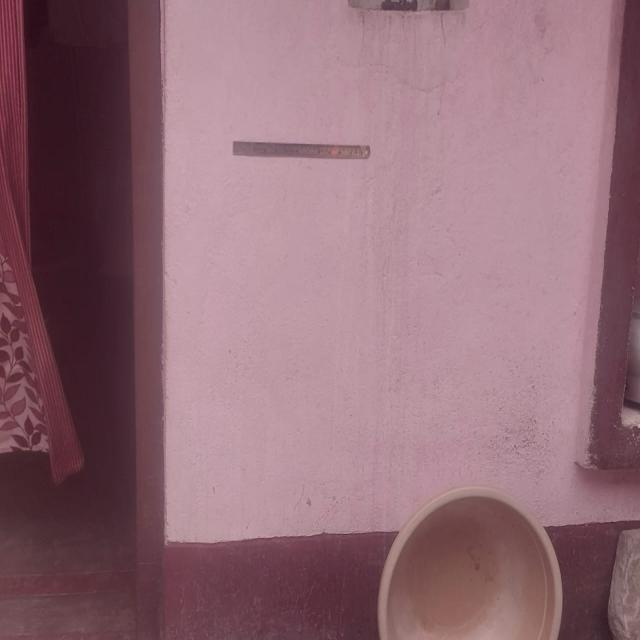scale: (231, 136, 373, 160)
